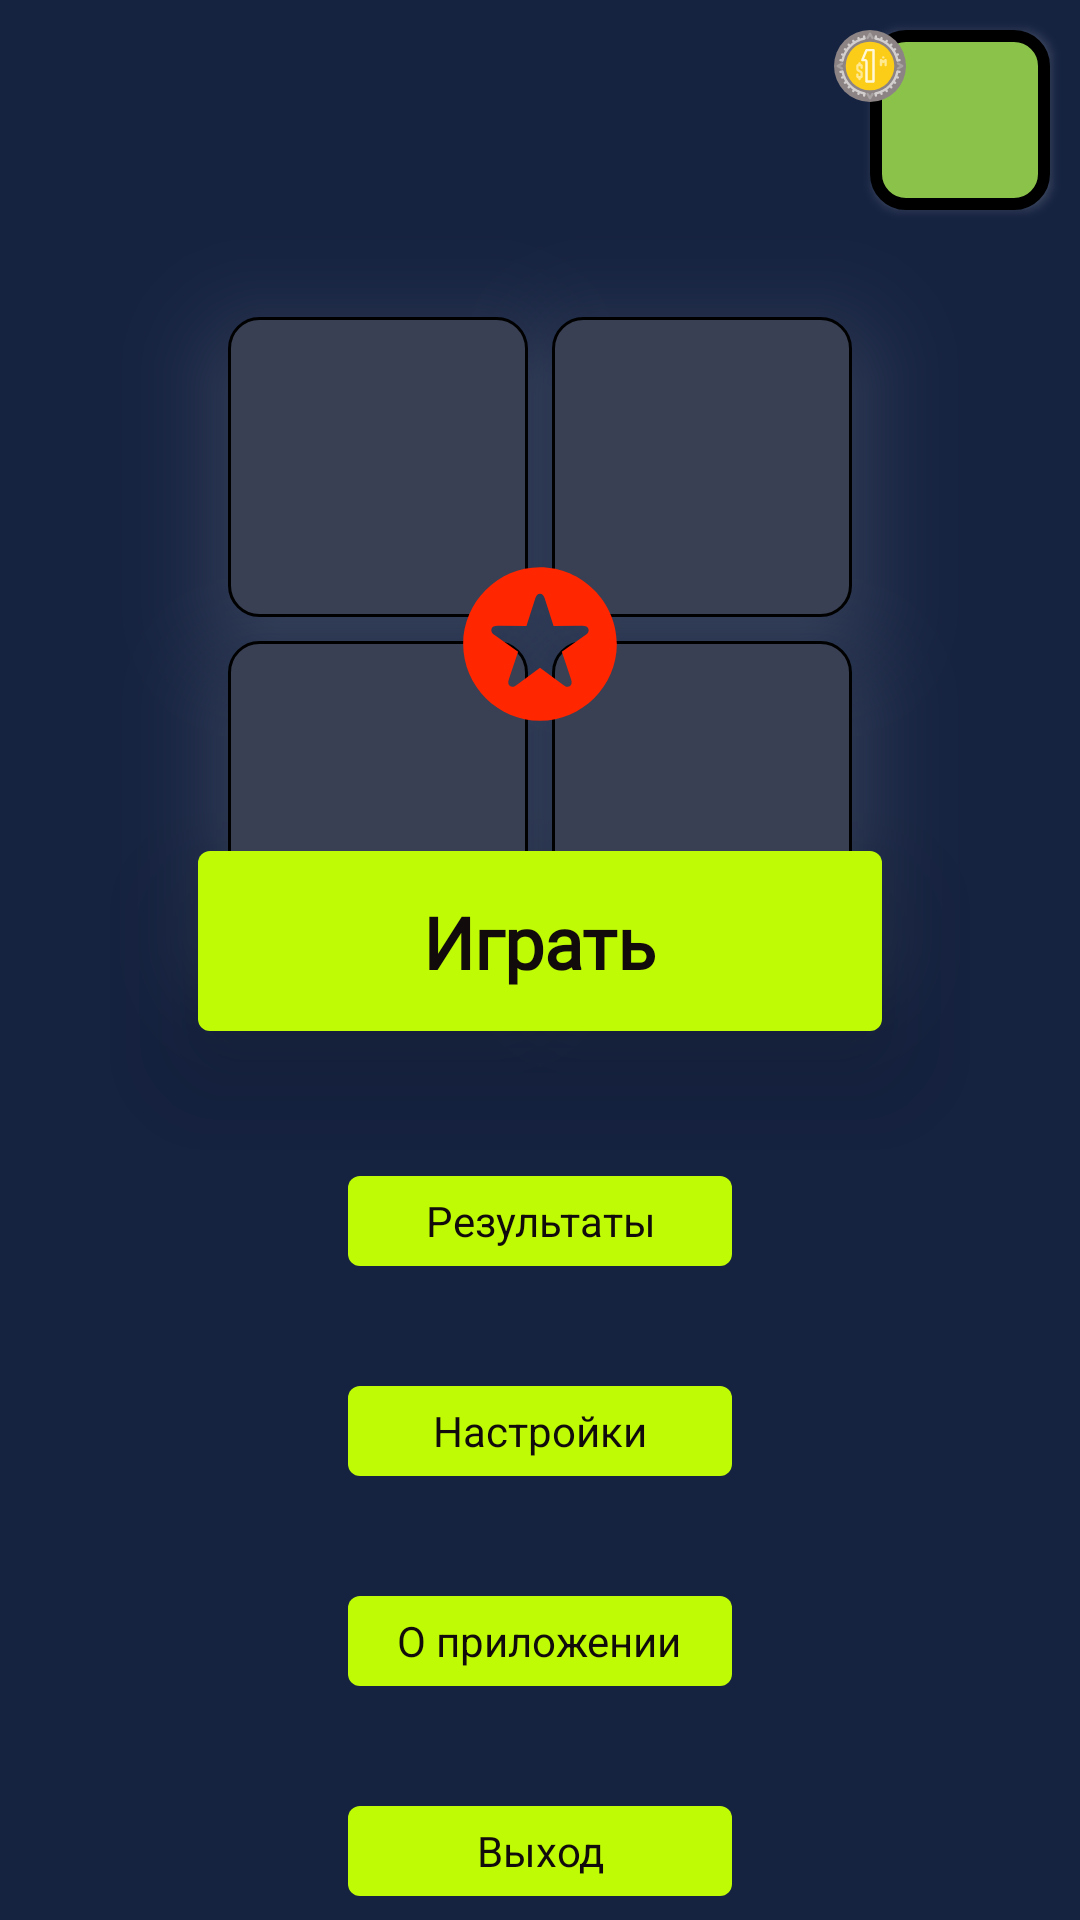

Where to tap for icons on this 1080 x 1920 app screen, as [x,y]:
coin: [870,66]
star: [540,644]
